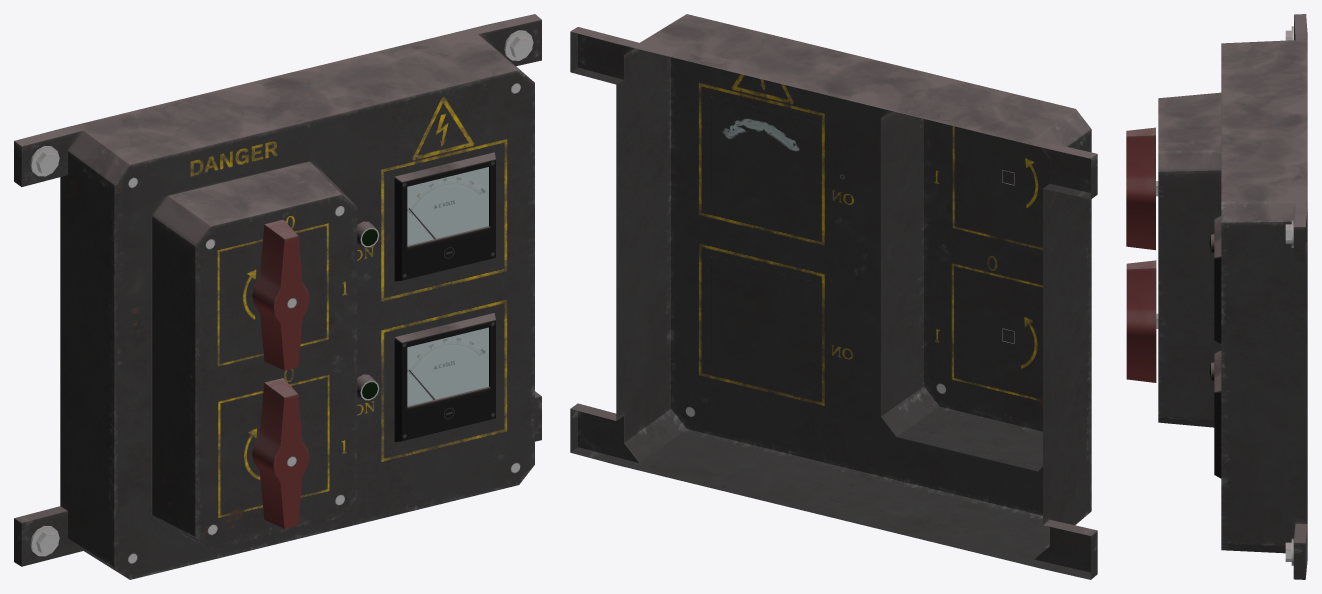
The model's file is switch_03.FBX.
The picture shows the model from 3 angles, left to right: view 1: azimuth 30°, elevation 25°; view 2: azimuth 150°, elevation 25°; view 3: azimuth 270°, elevation 25°; orthographic projection. The views are drawn at different scales.
Visible parts, largest first — view 1: Body, Switch_1, Swiych_2; view 2: Body; view 3: Body, Swiych_2, Switch_1.
Boxes of the visible parts, x1,y1,x2,y2 form: Body: (14, 14, 541, 579); Switch_1: (252, 219, 309, 370); Swiych_2: (252, 378, 309, 528); Body: (570, 14, 1097, 579); Body: (1158, 14, 1307, 579); Swiych_2: (1126, 260, 1158, 382); Switch_1: (1126, 127, 1158, 250).
Size of the model in its own units: 52.29 by 40.4 by 18.79.
